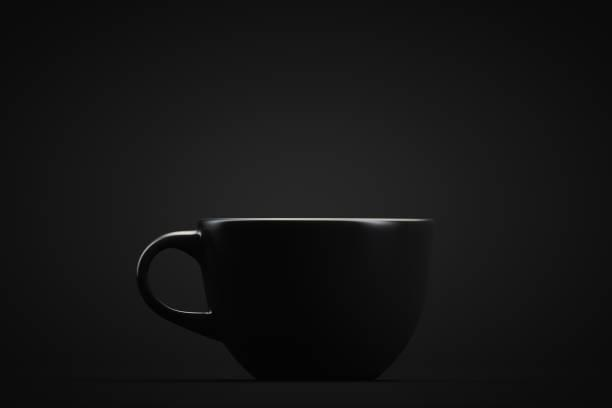cup-handle: (135, 214, 436, 382)
